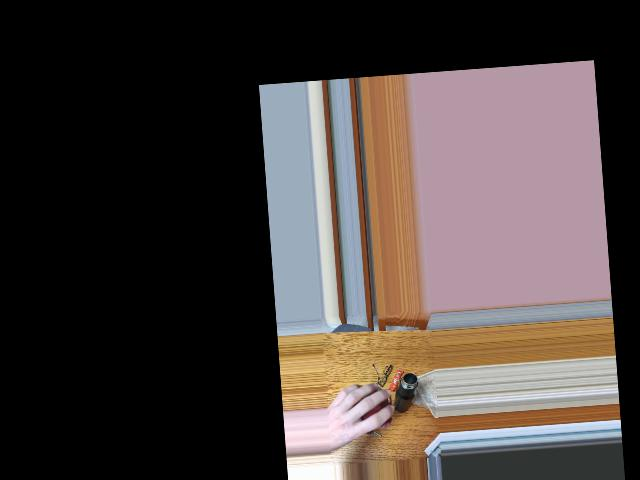onion: (351, 384, 386, 431)
